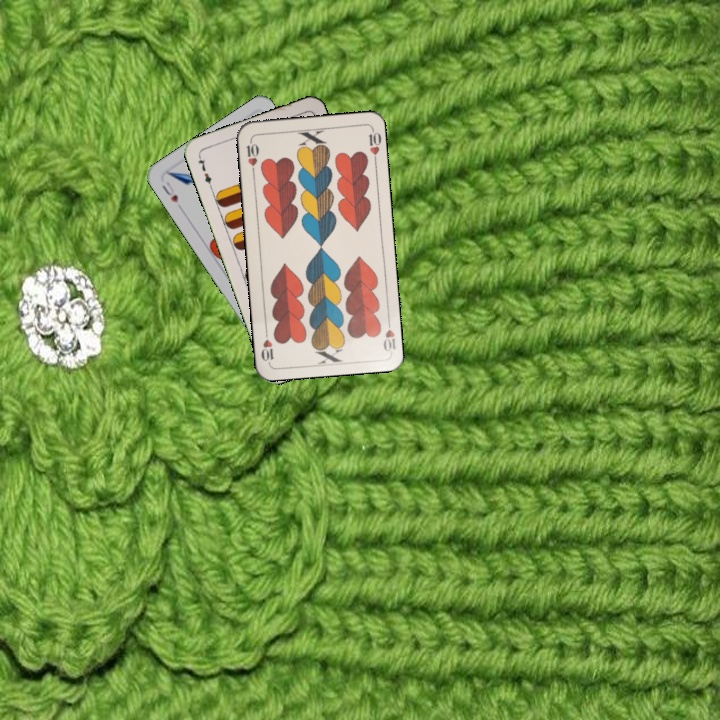E7: (194, 151, 215, 191)
H10: (242, 136, 261, 176), (379, 314, 398, 354)
HU: (158, 178, 181, 205)
